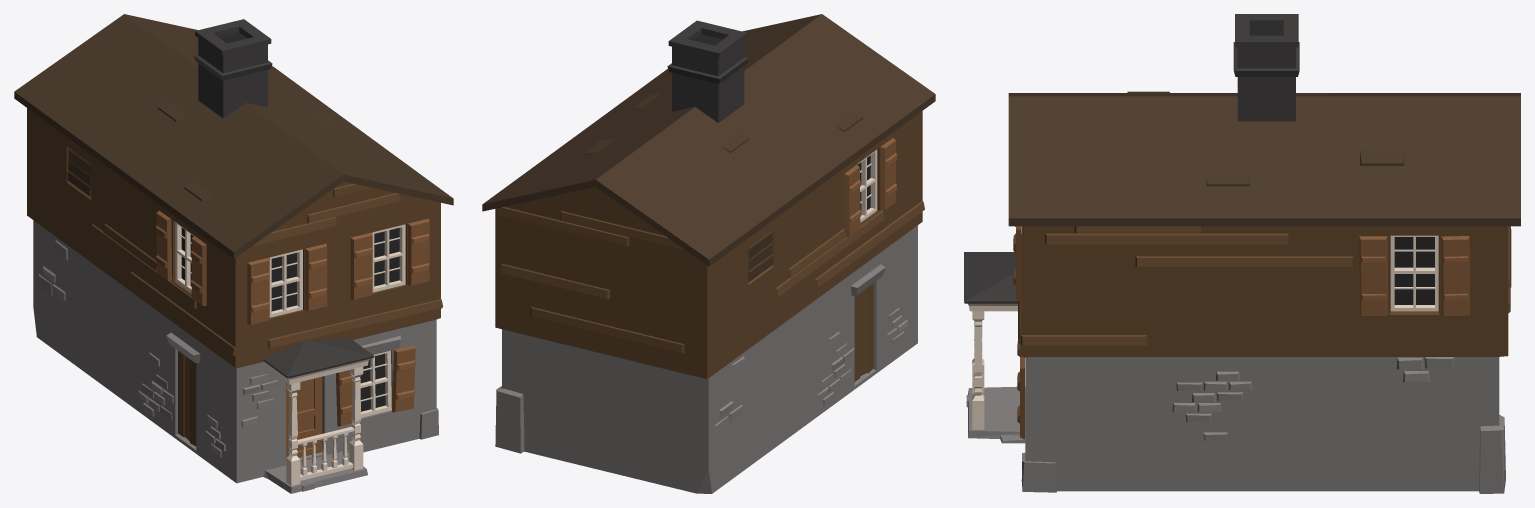
The model's file is pirates_house-pirate-new.fbx.
The picture shows the model from 3 angles, left to right: view 1: azimuth 30°, elevation 25°; view 2: azimuth 150°, elevation 25°; view 3: azimuth 270°, elevation 25°; orthographic projection. The views are drawn at different scales.
Parts seen in each view (by area): view 1: pirates_house_pirate_new; view 2: pirates_house_pirate_new; view 3: pirates_house_pirate_new.
Boxes of the visible parts, x1,y1,x2,y2 form: pirates_house_pirate_new: [14, 14, 453, 493]; pirates_house_pirate_new: [482, 14, 935, 493]; pirates_house_pirate_new: [964, 14, 1520, 493].
Size of the model in its own units: 106 by 161 by 200.
